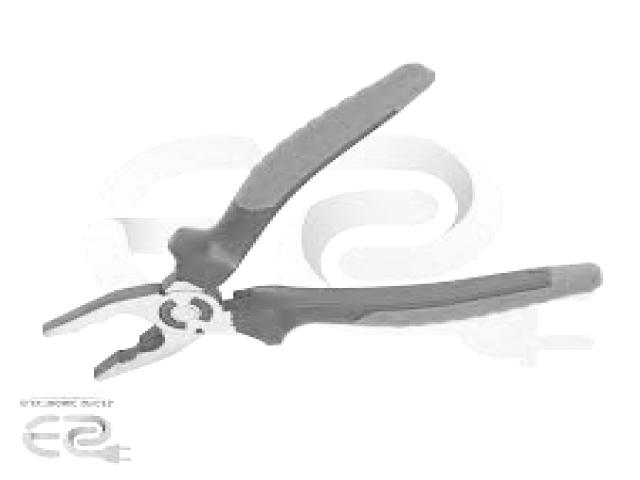Pliers: (44, 64, 599, 382)
